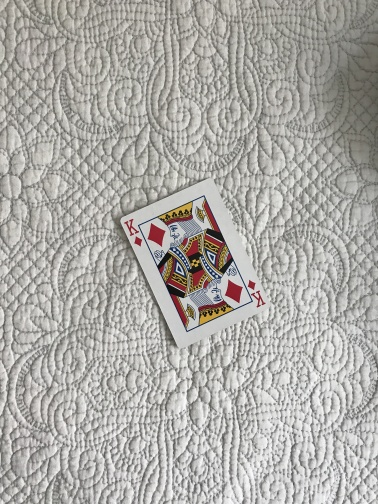king: (119, 176, 272, 350)
